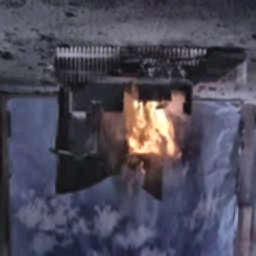fire: (121, 95, 185, 169)
